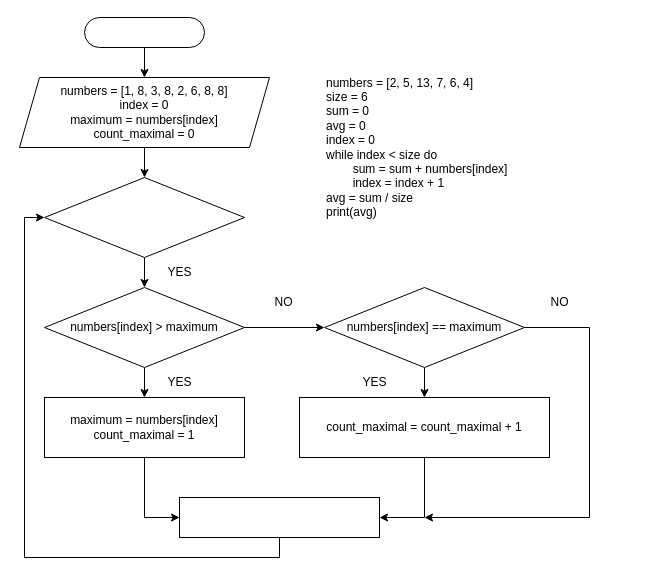
Some shapes in this 648 by 583 pixel diagram are drawn without their labels. The shapes that lost their labels are listed below. From the top down, each one's centre as x and y in pixels, then its label:
At [144,32]: "START".
At [144,217]: "index < numbers.length".
At [279,517]: "index = index + 1".
